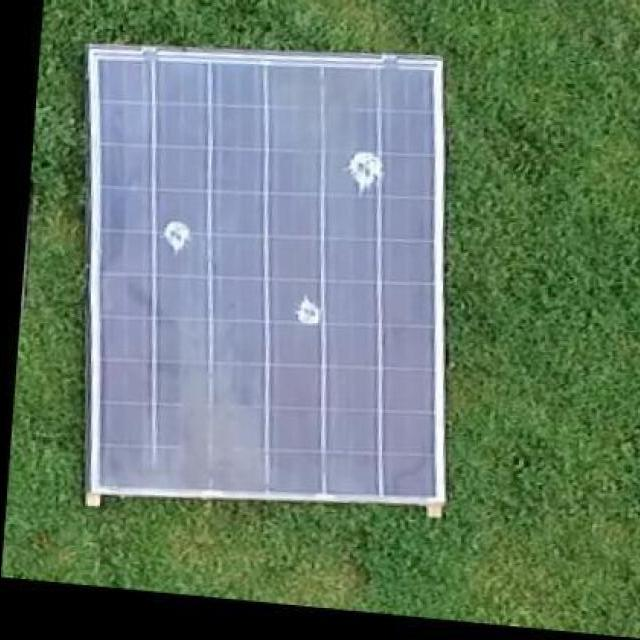soiled: (79, 47, 450, 506)
